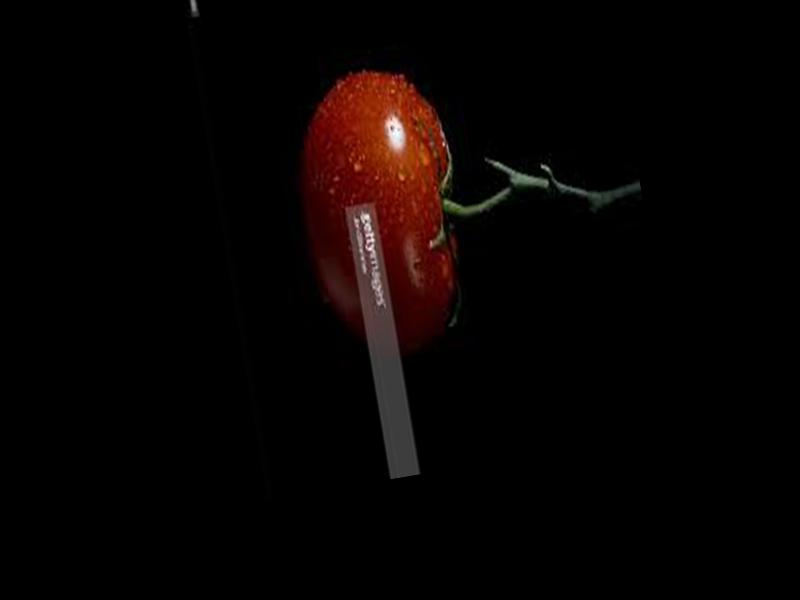Tomato: (286, 61, 475, 355)
